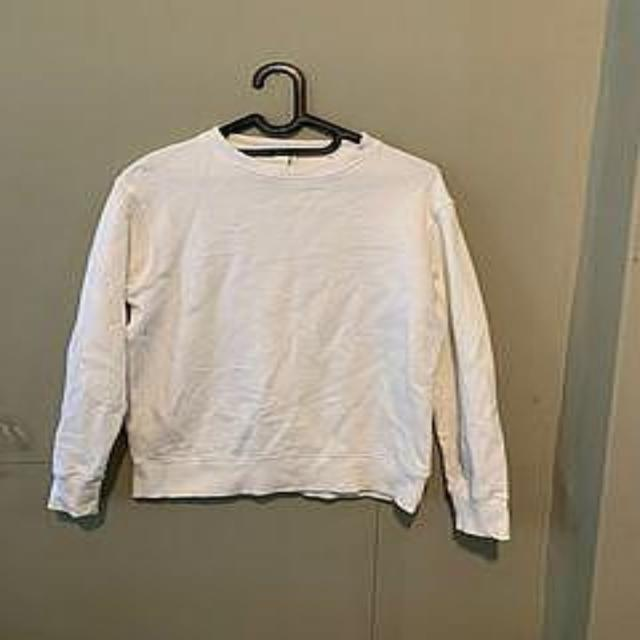SHIRT: (30, 113, 566, 544)
